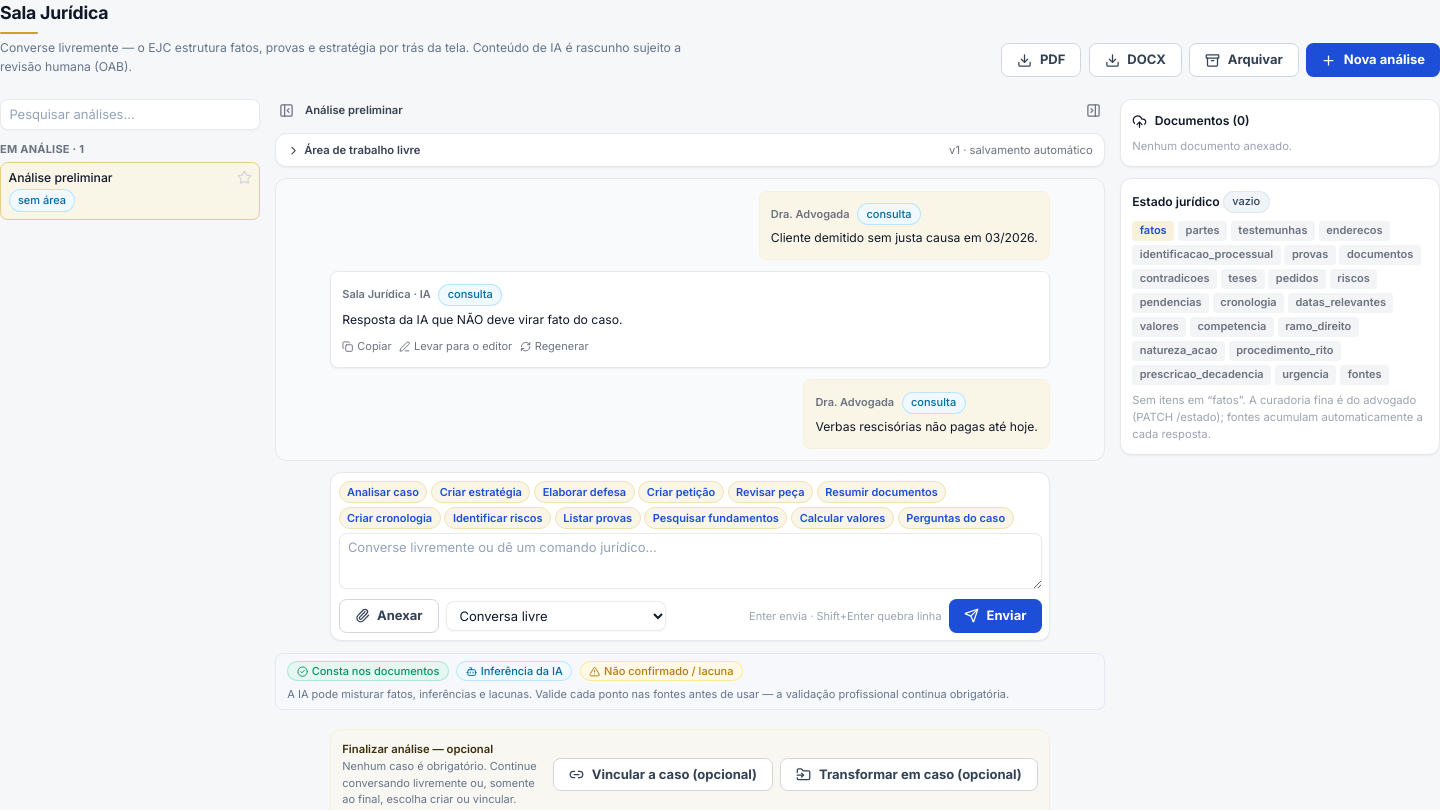
Sala Jurídica — wizard pré-preenche área e fatos da sessão › cai para as mensagens do advogado quando resumo e workspace faltam
expect the text "Análise preliminar" below "Em análise" is shown: met, box [8,170,112,185]
What coordinates should you click on to do the following:
click the button "Transformar em caso (opcional)"
I would click on:
 (909, 775)
Its box is [780,758,1038,792].
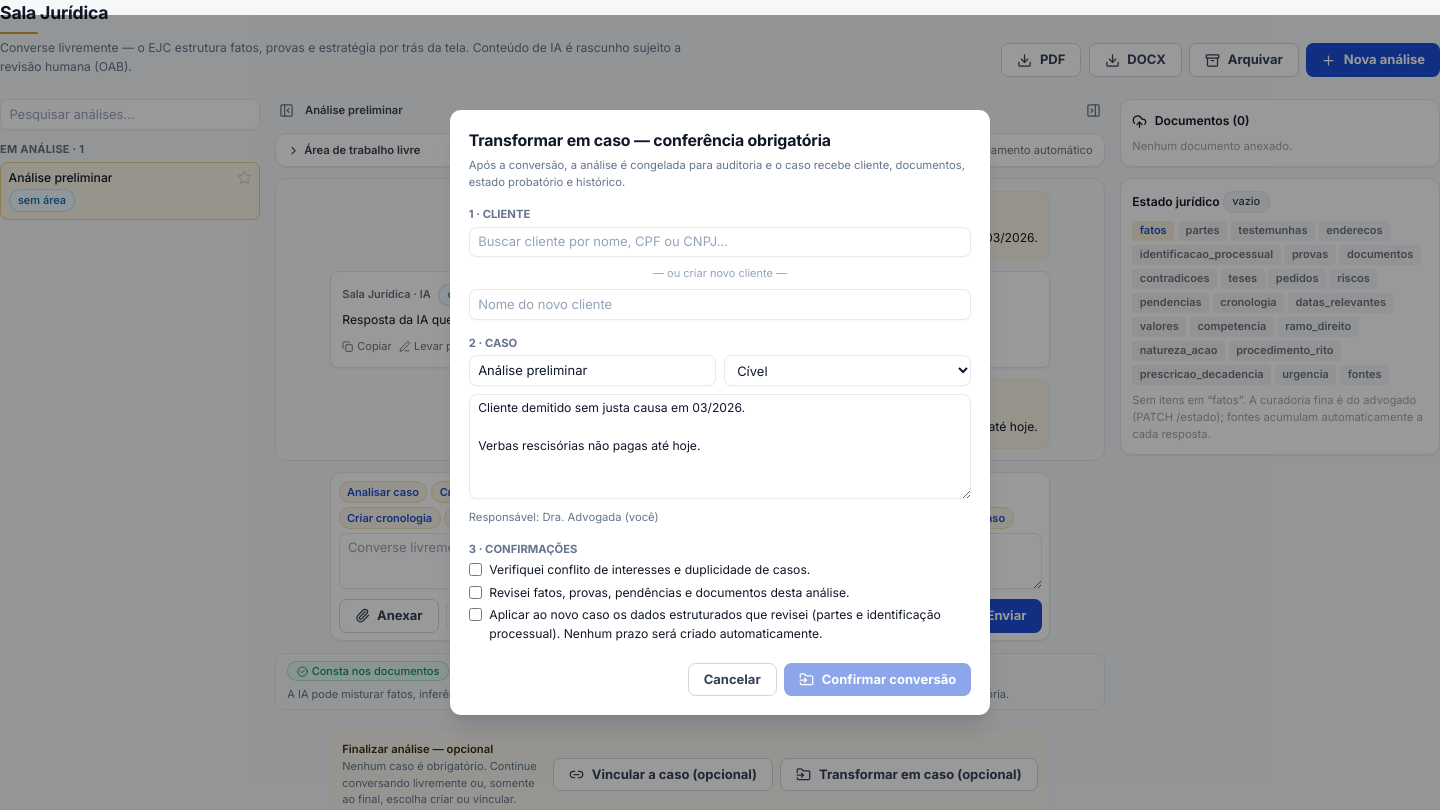
expect the heading "Transformar em caso — conferência obrigatória" is shown: met, box [469,131,831,150]
